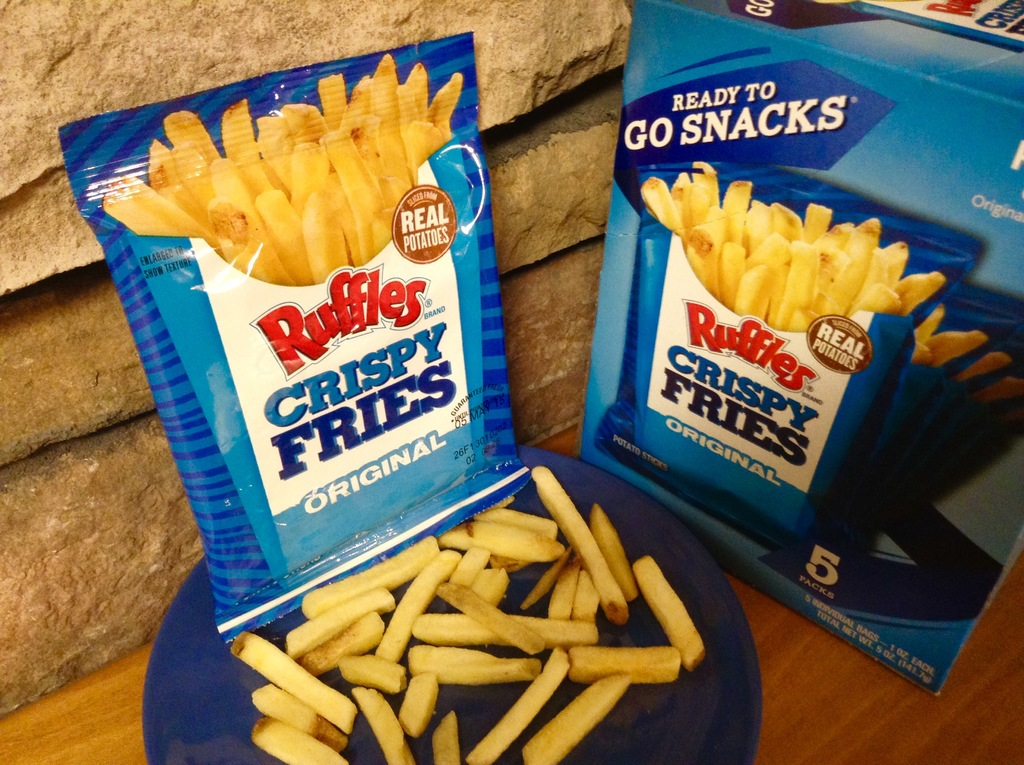French fries: (224, 464, 707, 764), (97, 49, 465, 285), (638, 156, 947, 334), (910, 305, 988, 367), (960, 347, 1018, 383), (974, 370, 1019, 407)
